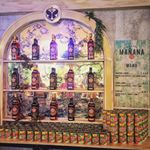other: (85, 65, 102, 93), (46, 92, 62, 121)
